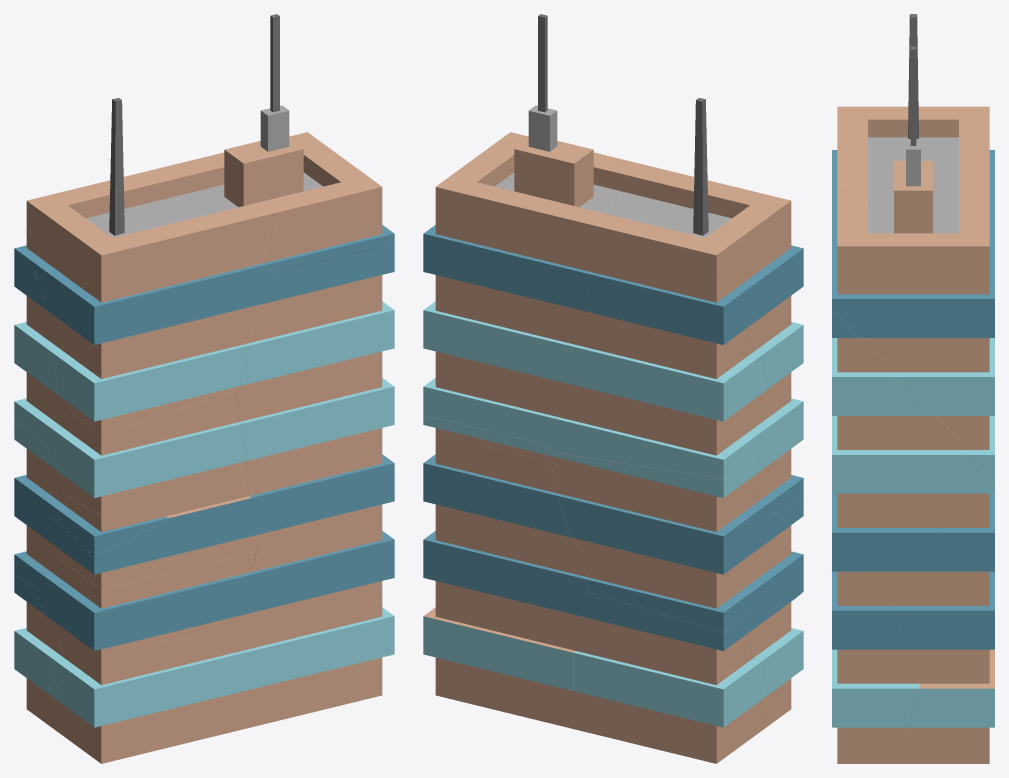
The model's file is BigHouse 1.2 Fractured.fbx.
3 views of the same model, side by side, from view 1: azimuth 30°, elevation 25°; view 2: azimuth 150°, elevation 25°; view 3: azimuth 270°, elevation 25° (orthographic).
Visible parts, largest first — view 1: BigHouse_Type1_2_Breaking_cell, BigHouse_Type1_2_Breaking_cell.008, BigHouse_Type1_2_Breaking_cell.012, BigHouse_Type1_2_Breaking_cell.014, BigHouse_Type1_2_Breaking_cell.004, BigHouse_Type1_2_Breaking_cell.003, BigHouse_Type1_2_Breaking_cell.001, BigHouse_Type1_2_Breaking_cell.007, BigHouse_Type1_2_Breaking_cell.011, BigHouse_Type1_2_Breaking_cell.005, BigHouse_Type1_2_Breaking_cell.002, BigHouse_Type1_2_Breaking_cell.009 (+1 smaller); view 2: BigHouse_Type1_2_Breaking_cell.014, BigHouse_Type1_2_Breaking_cell.005, BigHouse_Type1_2_Breaking_cell.002, BigHouse_Type1_2_Breaking_cell.010, BigHouse_Type1_2_Breaking_cell.009, BigHouse_Type1_2_Breaking_cell.008, BigHouse_Type1_2_Breaking_cell.013, BigHouse_Type1_2_Breaking_cell.004, BigHouse_Type1_2_Breaking_cell.007, BigHouse_Type1_2_Breaking_cell.003, BigHouse_Type1_2_Breaking_cell.001, BigHouse_Type1_2_Breaking_cell (+2 smaller); view 3: BigHouse_Type1_2_Breaking_cell.014, BigHouse_Type1_2_Breaking_cell, BigHouse_Type1_2_Breaking_cell.010, BigHouse_Type1_2_Breaking_cell.012, BigHouse_Type1_2_Breaking_cell.008, BigHouse_Type1_2_Breaking_cell.013, BigHouse_Type1_2_Breaking_cell.005.
Part boxes in pixels (bbox=[...]): BigHouse_Type1_2_Breaking_cell: bbox=[235, 243, 394, 532]; BigHouse_Type1_2_Breaking_cell.008: bbox=[26, 98, 273, 344]; BigHouse_Type1_2_Breaking_cell.012: bbox=[237, 504, 394, 730]; BigHouse_Type1_2_Breaking_cell.014: bbox=[139, 14, 394, 273]; BigHouse_Type1_2_Breaking_cell.004: bbox=[52, 625, 239, 763]; BigHouse_Type1_2_Breaking_cell.003: bbox=[48, 391, 248, 516]; BigHouse_Type1_2_Breaking_cell.001: bbox=[52, 306, 254, 435]; BigHouse_Type1_2_Breaking_cell.007: bbox=[36, 552, 255, 650]; BigHouse_Type1_2_Breaking_cell.011: bbox=[50, 496, 265, 589]; BigHouse_Type1_2_Breaking_cell.005: bbox=[14, 220, 70, 446]; BigHouse_Type1_2_Breaking_cell.002: bbox=[14, 420, 63, 588]; BigHouse_Type1_2_Breaking_cell.009: bbox=[14, 574, 74, 743]; BigHouse_Type1_2_Breaking_cell.014: bbox=[423, 14, 618, 444]; BigHouse_Type1_2_Breaking_cell.005: bbox=[547, 236, 767, 478]; BigHouse_Type1_2_Breaking_cell.002: bbox=[547, 452, 763, 632]; BigHouse_Type1_2_Breaking_cell.010: bbox=[423, 435, 589, 650]; BigHouse_Type1_2_Breaking_cell.009: bbox=[573, 592, 767, 763]; BigHouse_Type1_2_Breaking_cell.008: bbox=[604, 98, 803, 320]; BigHouse_Type1_2_Breaking_cell.013: bbox=[423, 607, 575, 729]; BigHouse_Type1_2_Breaking_cell.004: bbox=[748, 602, 803, 728]; BigHouse_Type1_2_Breaking_cell.007: bbox=[741, 535, 803, 628]; BigHouse_Type1_2_Breaking_cell.003: bbox=[751, 381, 803, 494]; BigHouse_Type1_2_Breaking_cell.001: bbox=[748, 296, 803, 400]; BigHouse_Type1_2_Breaking_cell: bbox=[423, 415, 551, 462]; BigHouse_Type1_2_Breaking_cell.014: bbox=[832, 46, 994, 483]; BigHouse_Type1_2_Breaking_cell: bbox=[832, 309, 994, 571]; BigHouse_Type1_2_Breaking_cell.010: bbox=[884, 493, 994, 683]; BigHouse_Type1_2_Breaking_cell.012: bbox=[832, 571, 919, 763]; BigHouse_Type1_2_Breaking_cell.008: bbox=[832, 14, 989, 238]; BigHouse_Type1_2_Breaking_cell.013: bbox=[894, 649, 994, 763]; BigHouse_Type1_2_Breaking_cell.005: bbox=[989, 150, 994, 214].
Size of the model in its own units: 824 by 1755 by 380.
